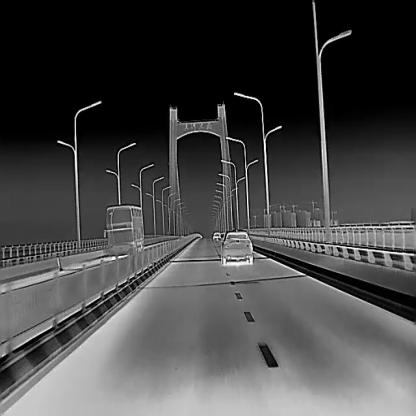bus: (106, 205, 142, 255)
car: (221, 230, 253, 264), (212, 231, 220, 239)
